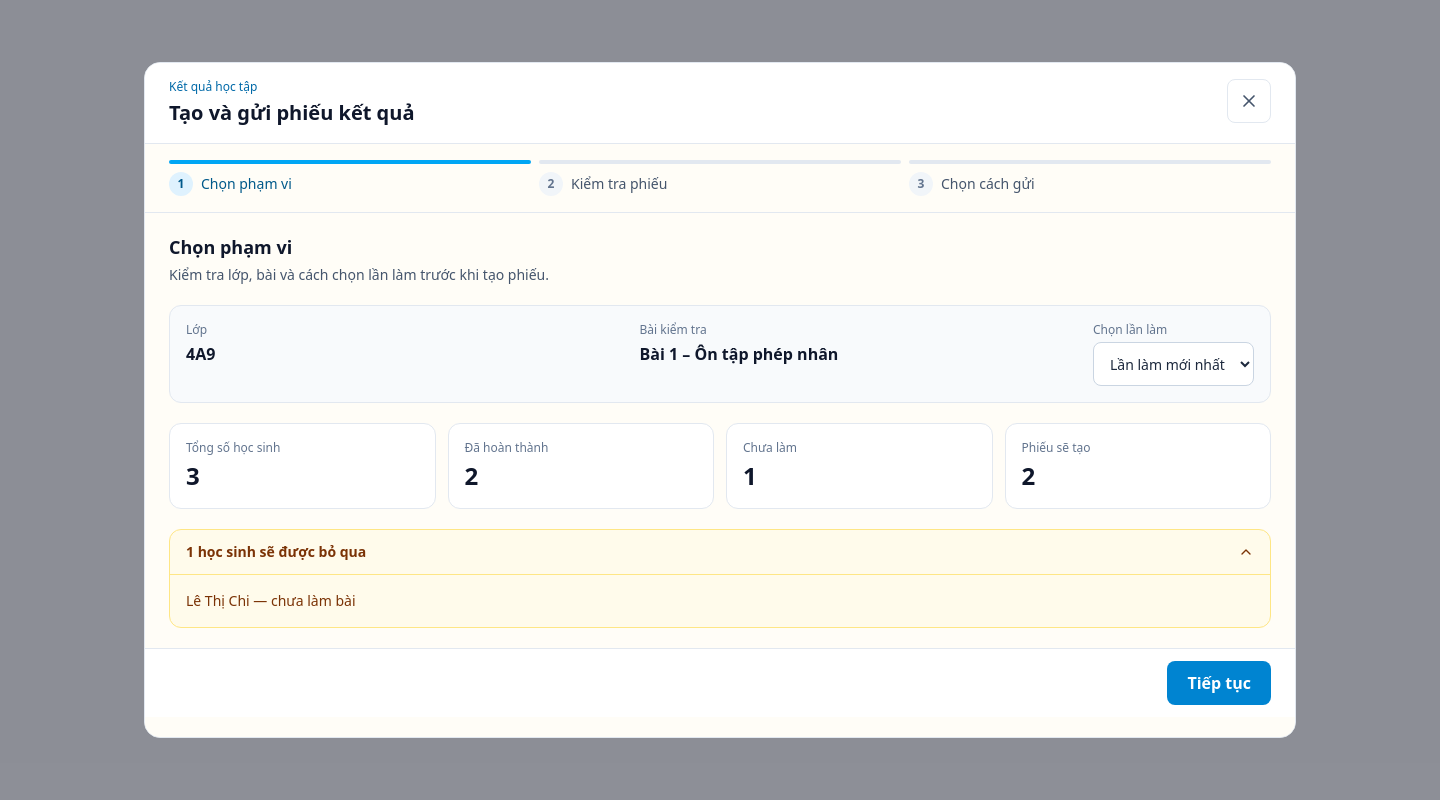
it: class result report delivery wizard › completes the desktop flow and retries only the failed delivery
Expected: the list item "Lê Thị Chi — chưa làm bài" is shown, [186, 591, 356, 610]
Click the button "Tiếp tục" at (1219, 683), box [1167, 661, 1271, 705]
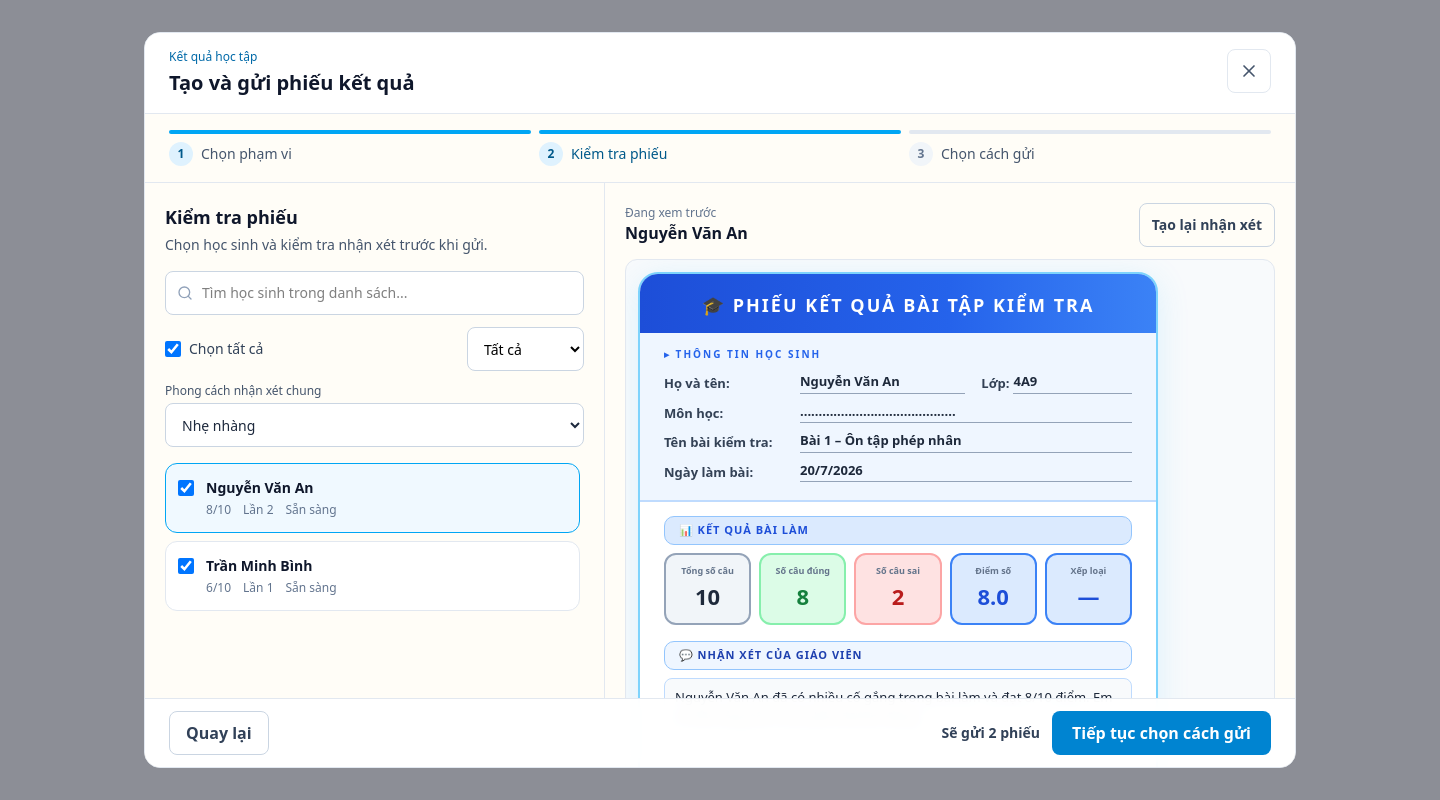
Expected: the text "Sẽ gửi 2 phiếu" is shown, [942, 723, 1040, 743]
Type "Bình" into the field with placeholder "Tìm học sinh trong danh sách..." at (375, 293), box [165, 271, 584, 315]
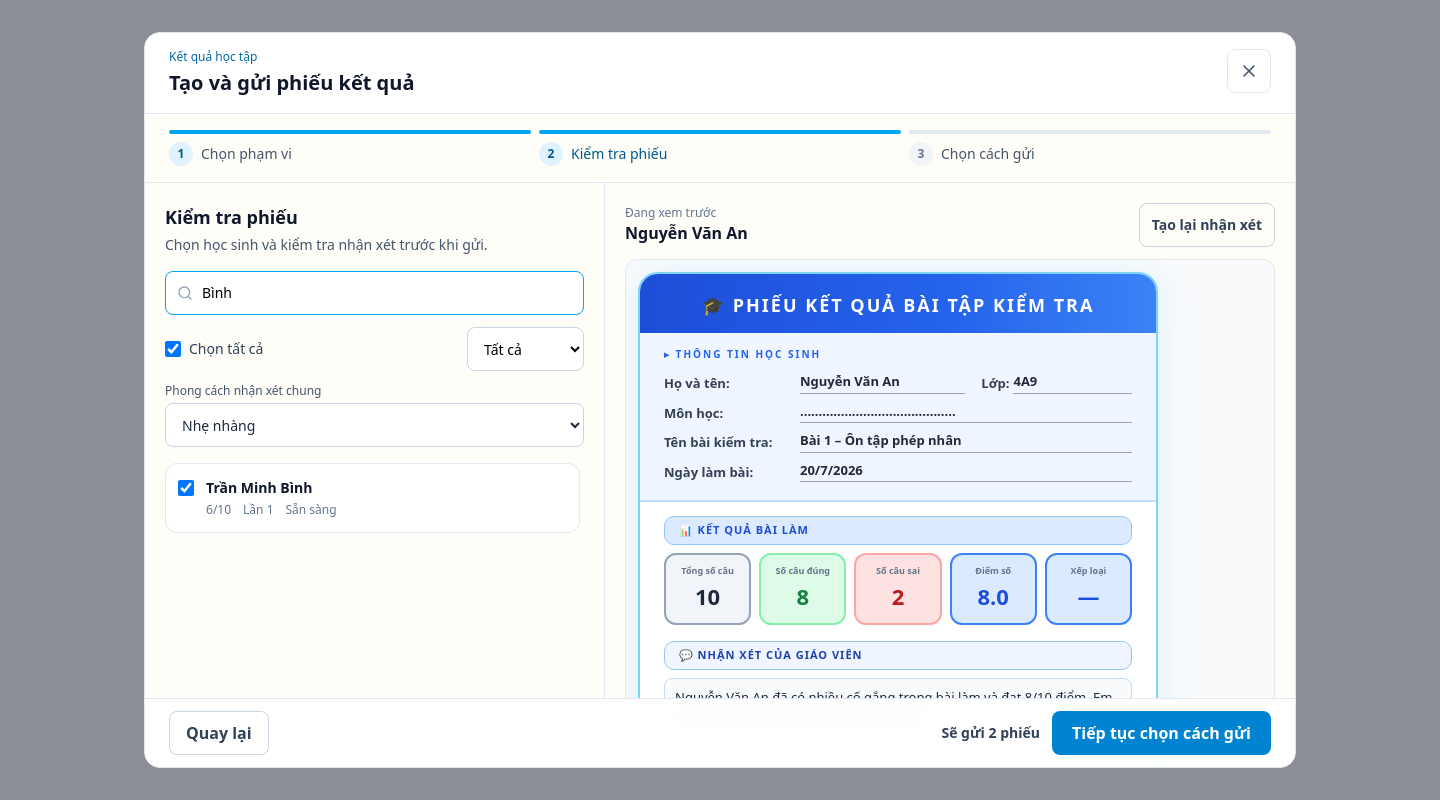
Expected: the button "Trần Minh Bình 6/10 Lần 1 Sẵn sàng" is shown, [206, 476, 567, 520]
Expected: the text "Sẽ gửi 2 phiếu" is shown, [942, 723, 1040, 743]
Click the button "Tiếp tục chọn cách gửi" at (1162, 733), box [1052, 711, 1271, 755]
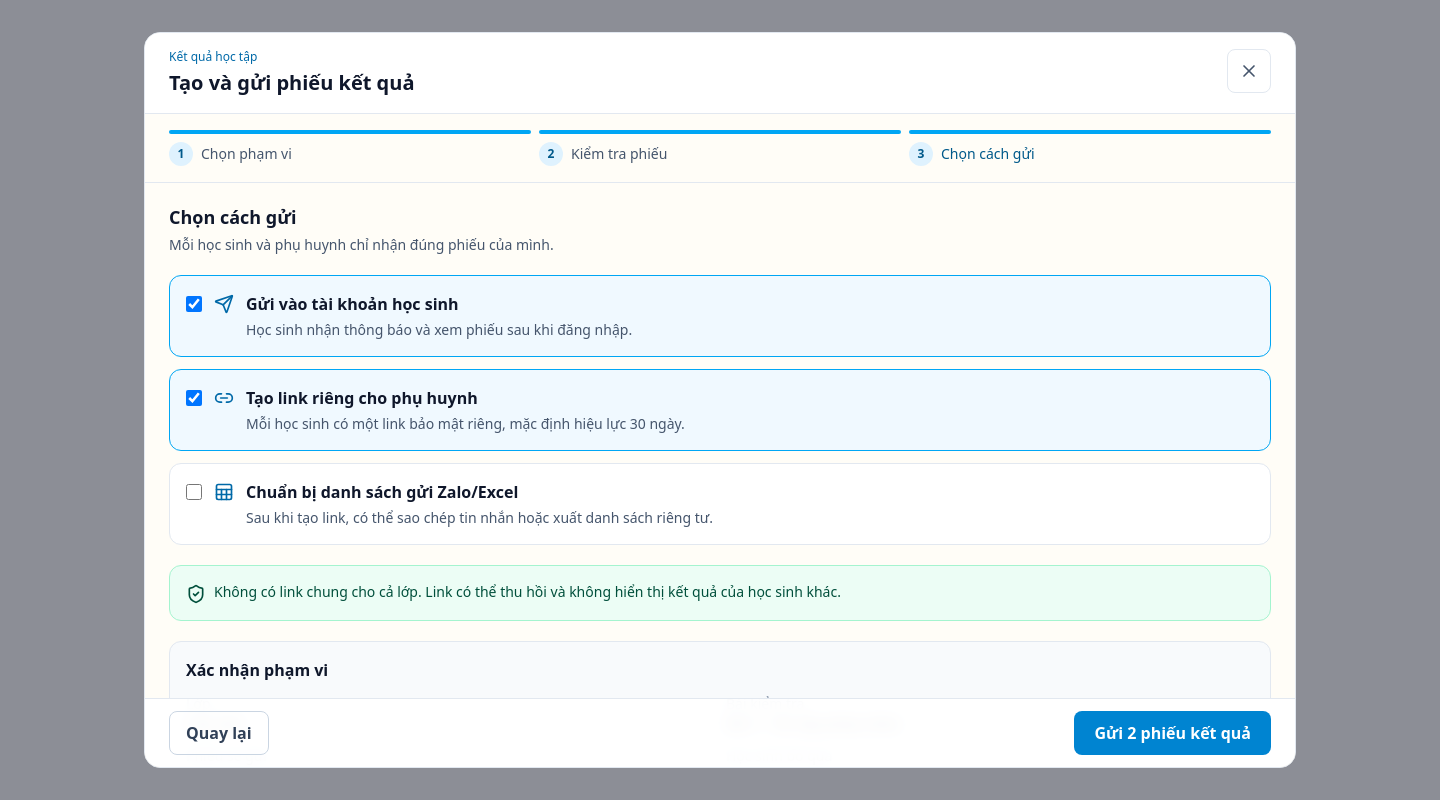
Expected: the checkbox named "Gửi vào tài khoản học sinh" is checked, [186, 296, 202, 312]
Expected: the checkbox named "Tạo link riêng cho phụ huynh" is checked, [186, 390, 202, 406]
Click the button "Gửi 2 phiếu kết quả" at (1174, 733), box [1075, 711, 1272, 755]
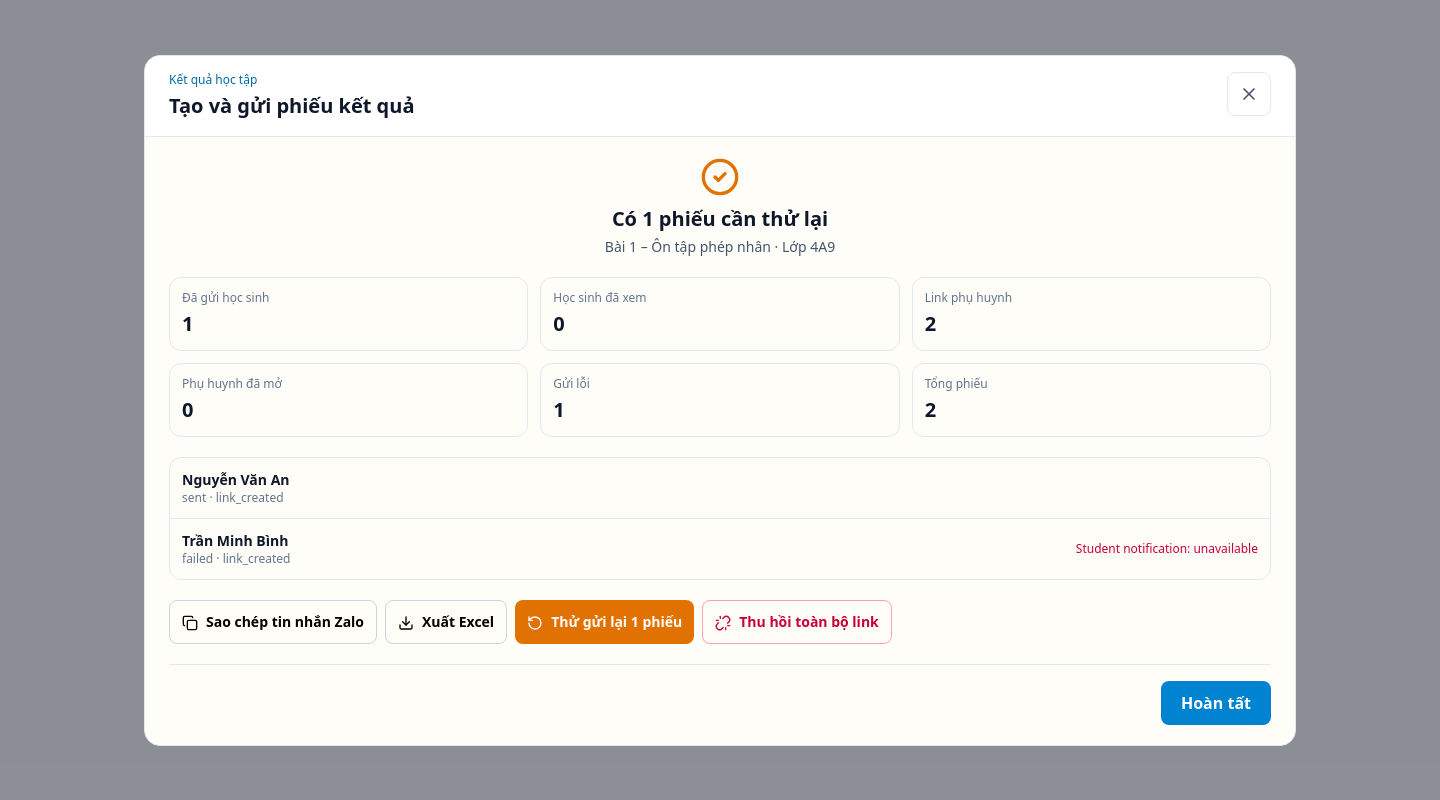
Expected: the heading "Có 1 phiếu cần thử lại" is shown, [612, 204, 828, 232]
Click the button "Thử gửi lại 1 phiếu" at (605, 622), box [515, 600, 694, 644]
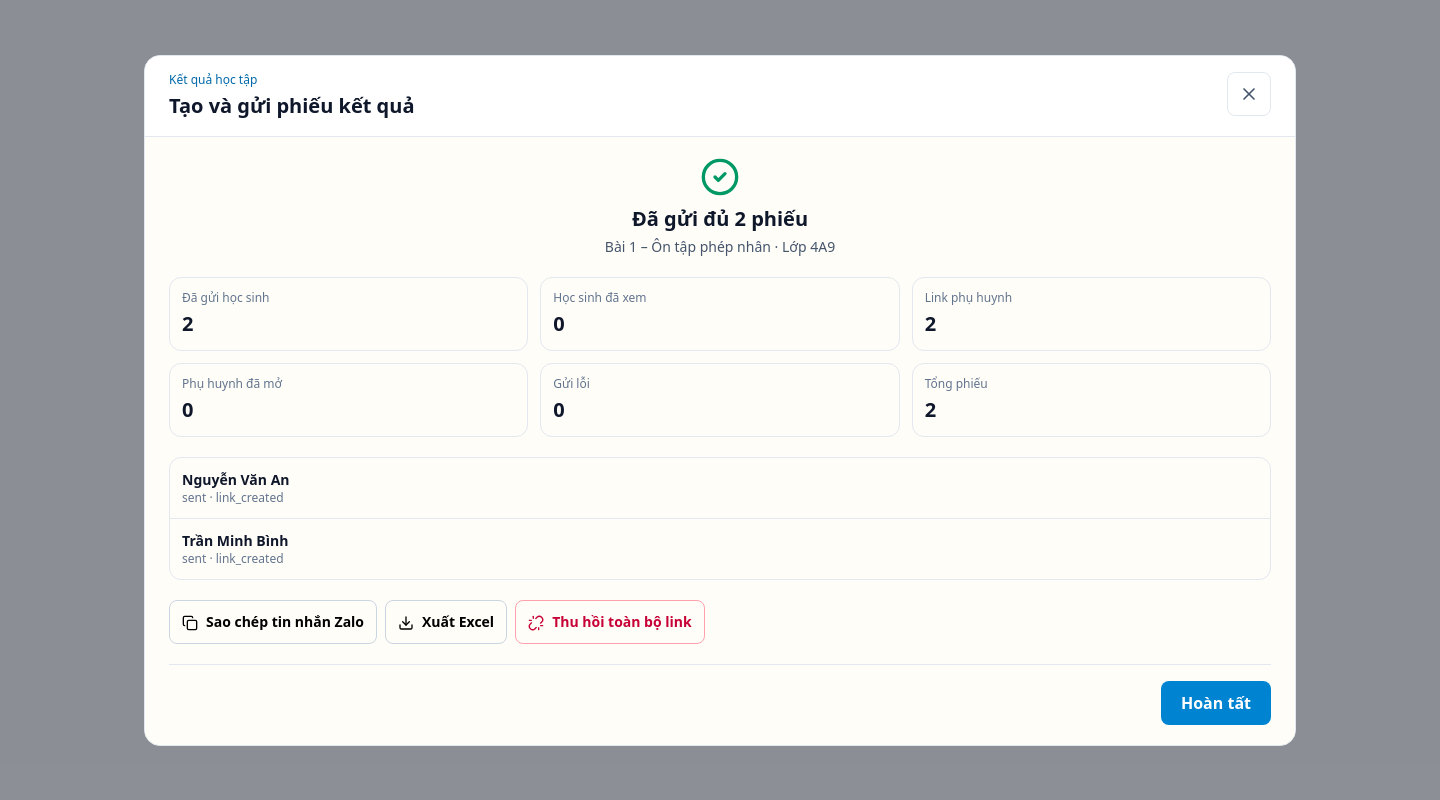
Expected: the heading "Đã gửi đủ 2 phiếu" is shown, [632, 204, 808, 232]
